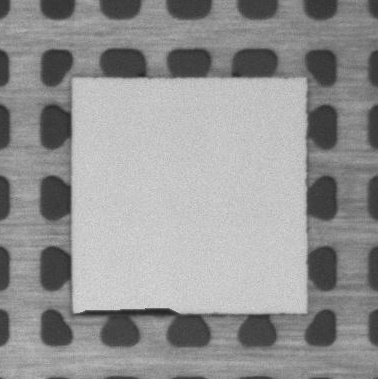DIE_BROKEN: (81, 302, 183, 317)
